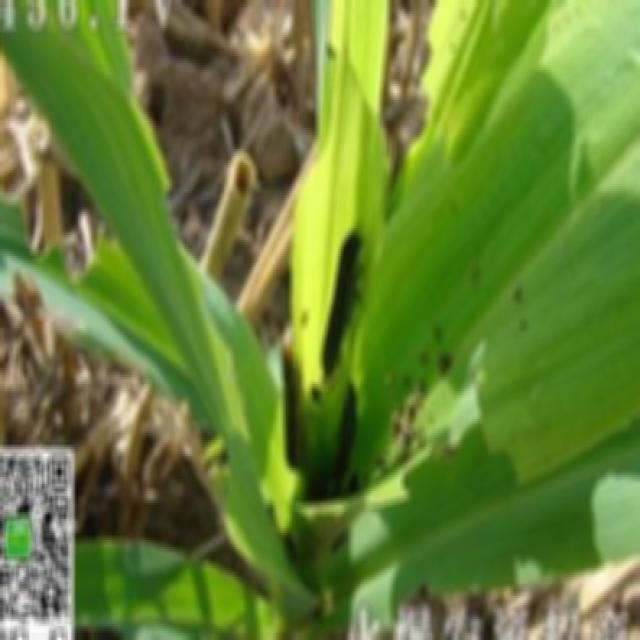army worm: (322, 218, 359, 395), (279, 345, 310, 473)
